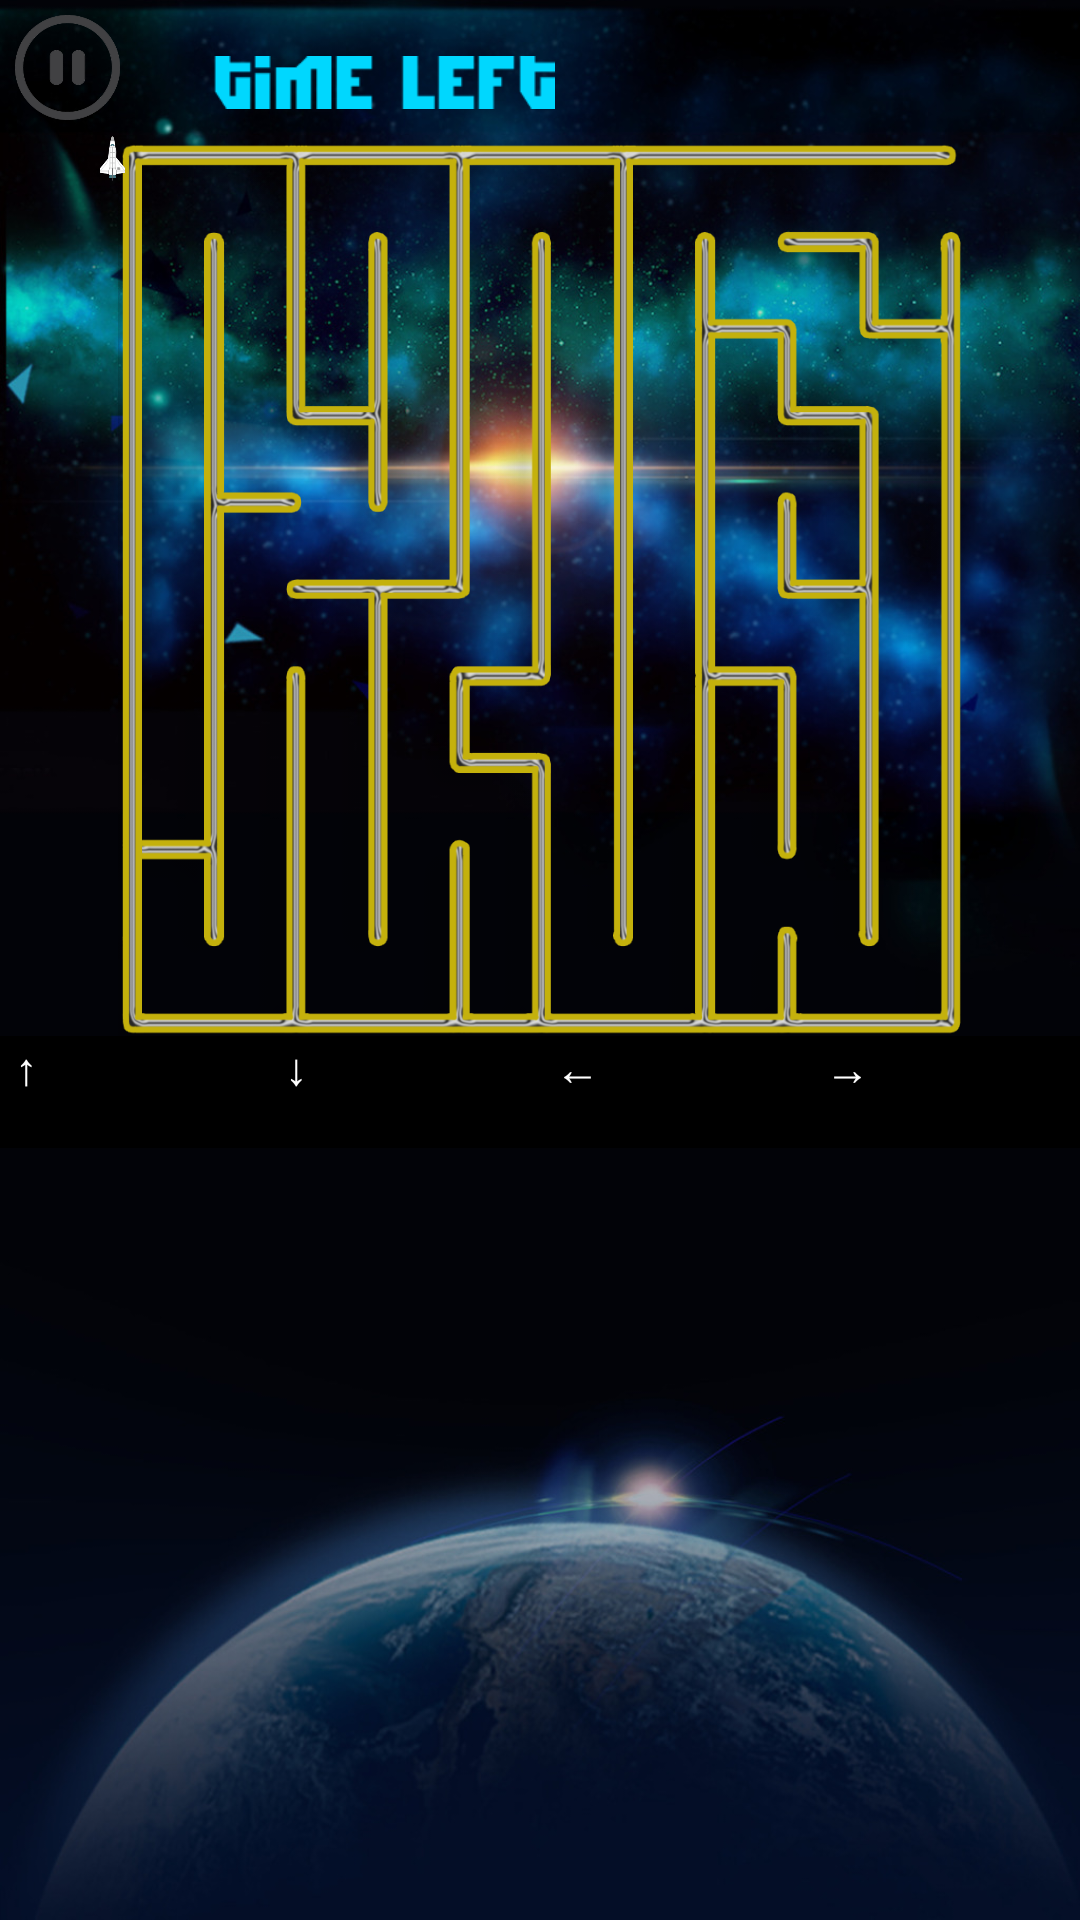

Icons on this 1080*1920 Android screen, each with its box as (x1, y1, x2, y2):
pause: (15, 15, 120, 120)
plane: (100, 136, 135, 181)
